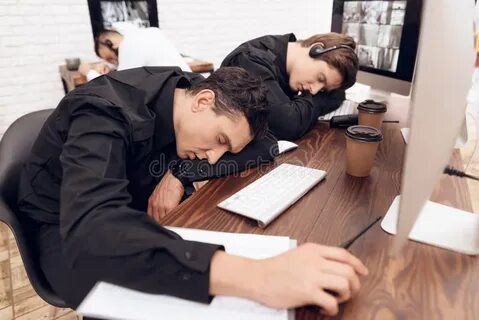sleep: (15, 66, 369, 318), (218, 31, 358, 140), (78, 26, 192, 73)
